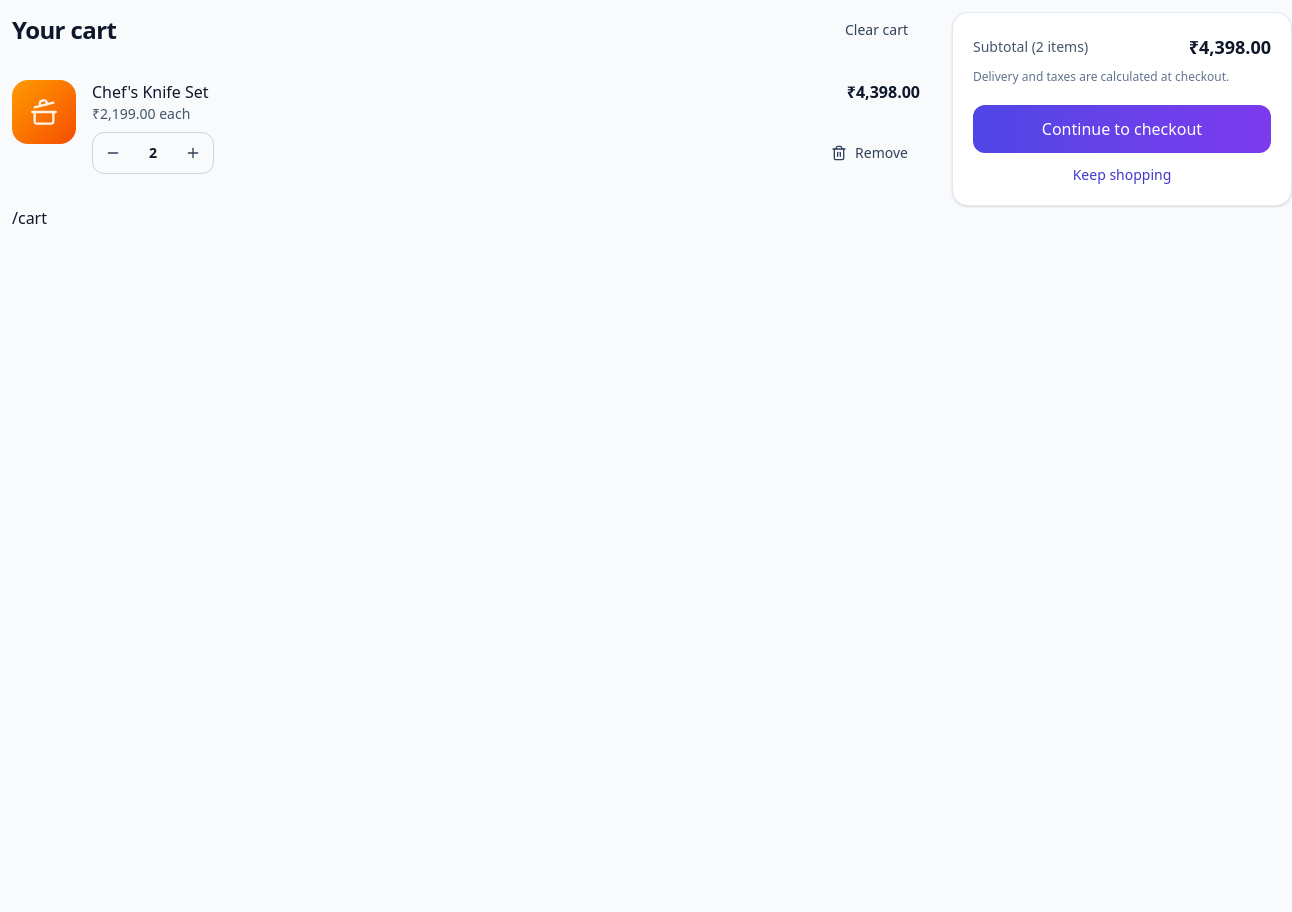
CartPage › rolls back and shows a toast when the server refuses the quantity (insufficient stock)
What coordinates should you click on to do the following:
click the button named "Increase Chef's Knife Set"
I would click on:
 (193, 153)
Its box is [173,133,213,173].
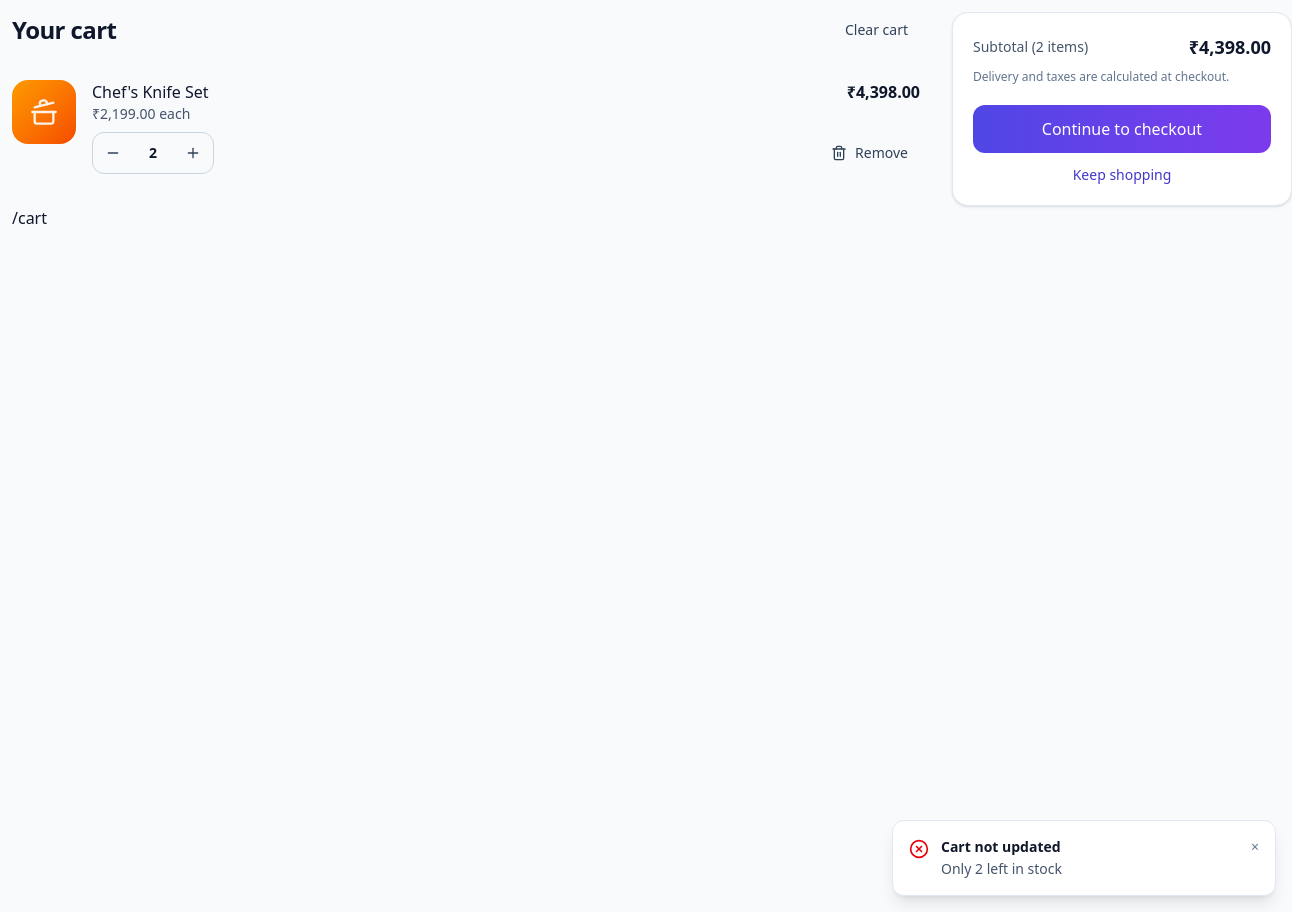
Result: the text "Cart not updated" is shown at [941,837,1061,856]
Result: the text "Only 2 left in stock" is shown at [941,859,1062,878]
